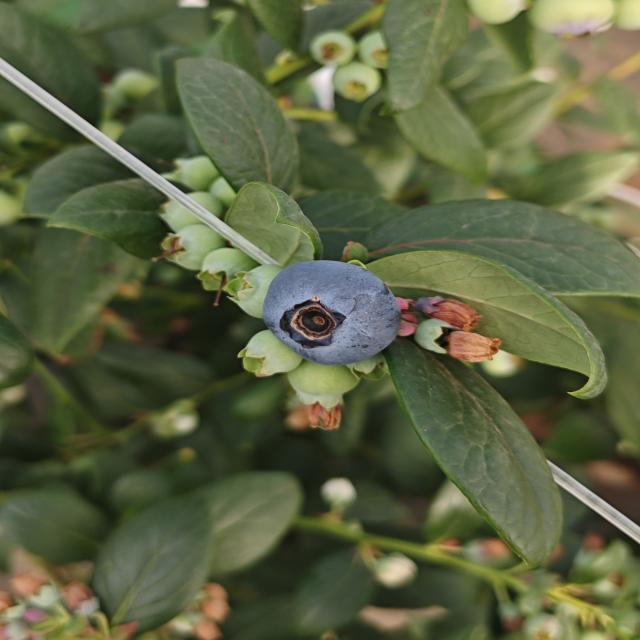ripe: (259, 255, 411, 368)
